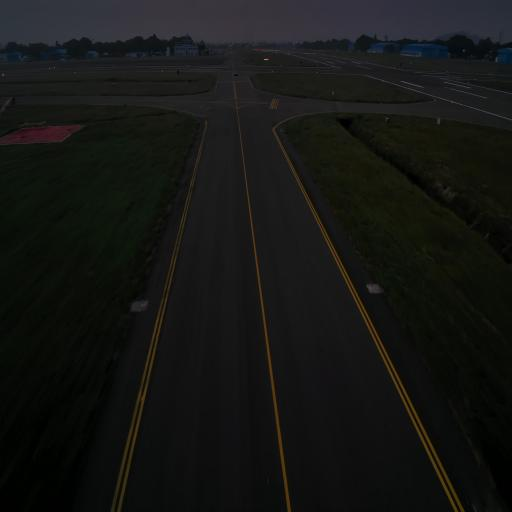on: (370, 282, 373, 287), (142, 298, 144, 304)
